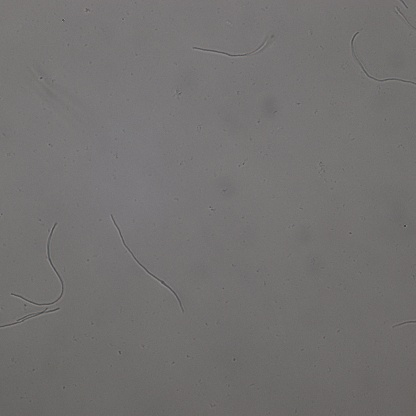Sensitive: (111, 213, 184, 311), (11, 220, 63, 305), (351, 31, 416, 85), (192, 33, 272, 58), (1, 307, 66, 333)
